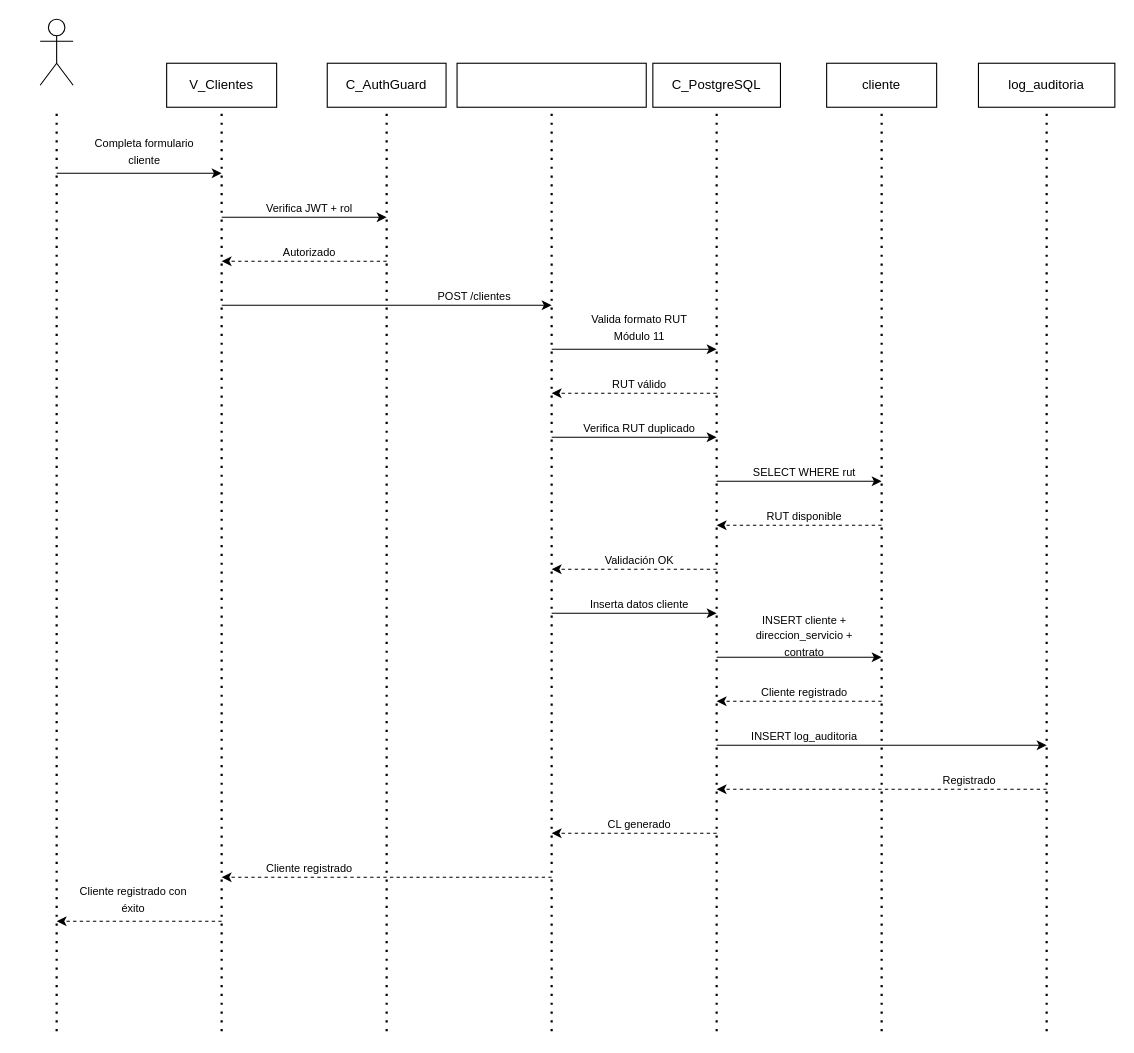
The diagram is 1134 pixels wide and 1053 high, and some of its shapes have lost their labels. Here are the shapes that lost their labels. From the top down, the centre of each, then its label:
the point at 56,51: Jefe Técnico
the point at 551,84: C_ClienteController
